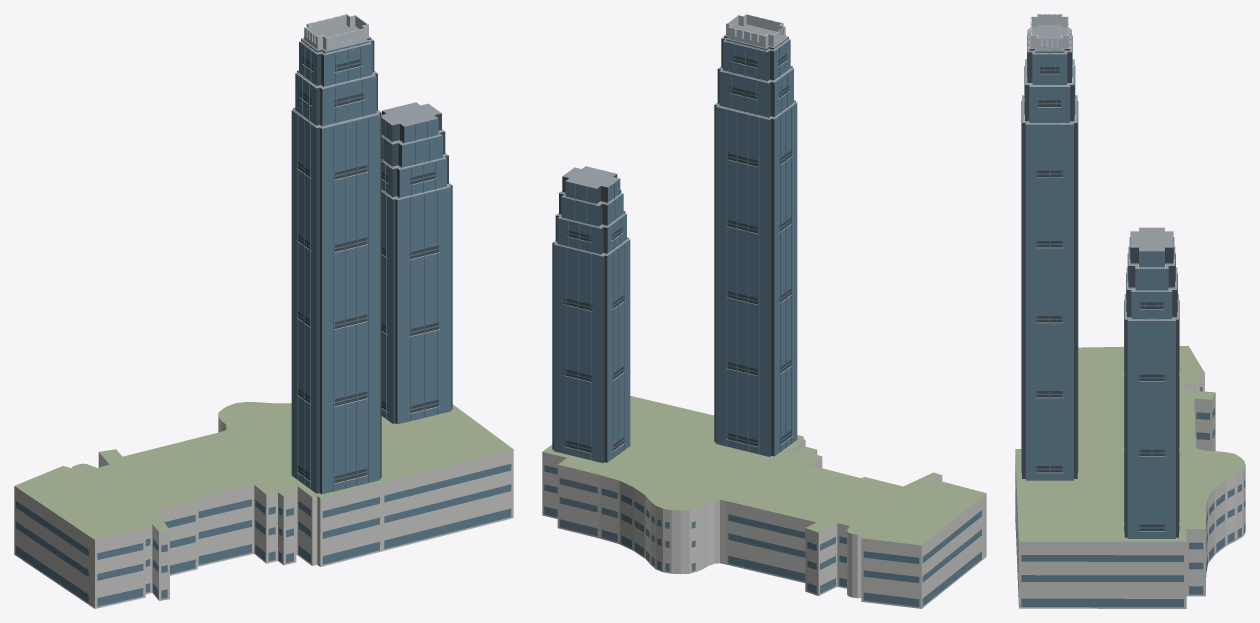
File: changsha-ifs-t1.glb
3 renders of one model, left to right at view 1: azimuth 30°, elevation 25°; view 2: azimuth 150°, elevation 25°; view 3: azimuth 270°, elevation 25°, orthographic. The views are drawn at different scales.
Visible parts, largest first — view 1: Changsha IFS Tower T1; view 2: Changsha IFS Tower T1; view 3: Changsha IFS Tower T1.
Part boxes in pixels (bbox=[...]): Changsha IFS Tower T1: bbox=[14, 14, 513, 608]; Changsha IFS Tower T1: bbox=[542, 14, 986, 608]; Changsha IFS Tower T1: bbox=[1015, 14, 1245, 608].
Bounding box in the file's own units: 376 × 452 × 187.
